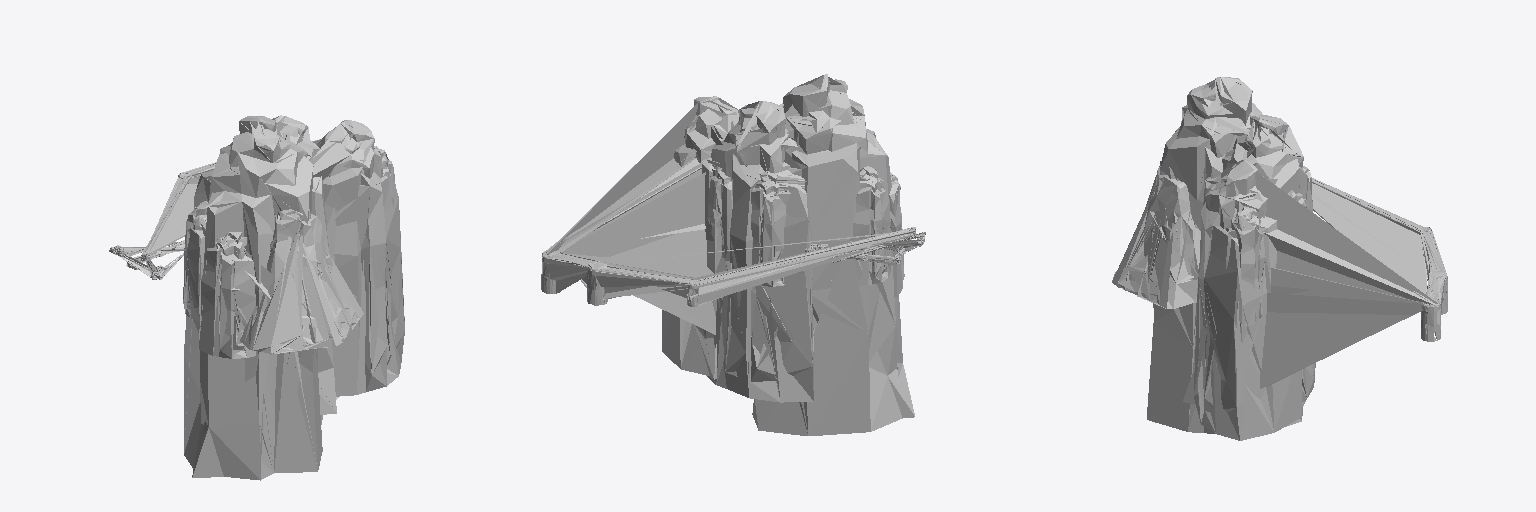
The model's file is cellReef_Beach_Proxy-sharedassets3.assets-624.obj.
The picture shows the model from 3 angles: view 1: azimuth 30°, elevation 25°; view 2: azimuth 150°, elevation 25°; view 3: azimuth 270°, elevation 25°; orthographic projection.
Parts seen in each view (by area): view 1: cellReef_Beach_Proxy_4, cellReef_Beach_Proxy_1, cellReef_Beach_Proxy_2, cellReef_Beach_Proxy_0, cellReef_Beach_Proxy_3; view 2: cellReef_Beach_Proxy_4, cellReef_Beach_Proxy_2, cellReef_Beach_Proxy_1, cellReef_Beach_Proxy_0; view 3: cellReef_Beach_Proxy_2, cellReef_Beach_Proxy_4, cellReef_Beach_Proxy_1, cellReef_Beach_Proxy_3, cellReef_Beach_Proxy_0.
Boxes of the visible parts, <box> form: cellReef_Beach_Proxy_4: <box>183,115,404,479</box>; cellReef_Beach_Proxy_1: <box>109,116,404,480</box>; cellReef_Beach_Proxy_2: <box>110,118,396,477</box>; cellReef_Beach_Proxy_0: <box>183,149,386,353</box>; cellReef_Beach_Proxy_3: <box>216,212,363,350</box>; cellReef_Beach_Proxy_4: <box>662,75,914,435</box>; cellReef_Beach_Proxy_2: <box>542,75,925,430</box>; cellReef_Beach_Proxy_1: <box>541,74,924,432</box>; cellReef_Beach_Proxy_0: <box>758,166,904,295</box>; cellReef_Beach_Proxy_2: <box>1118,77,1447,440</box>; cellReef_Beach_Proxy_4: <box>1112,77,1315,439</box>; cellReef_Beach_Proxy_1: <box>1112,77,1447,440</box>; cellReef_Beach_Proxy_3: <box>1125,162,1200,308</box>; cellReef_Beach_Proxy_0: <box>1119,163,1312,302</box>.
Size of the model in its own units: 141 by 150 by 138.